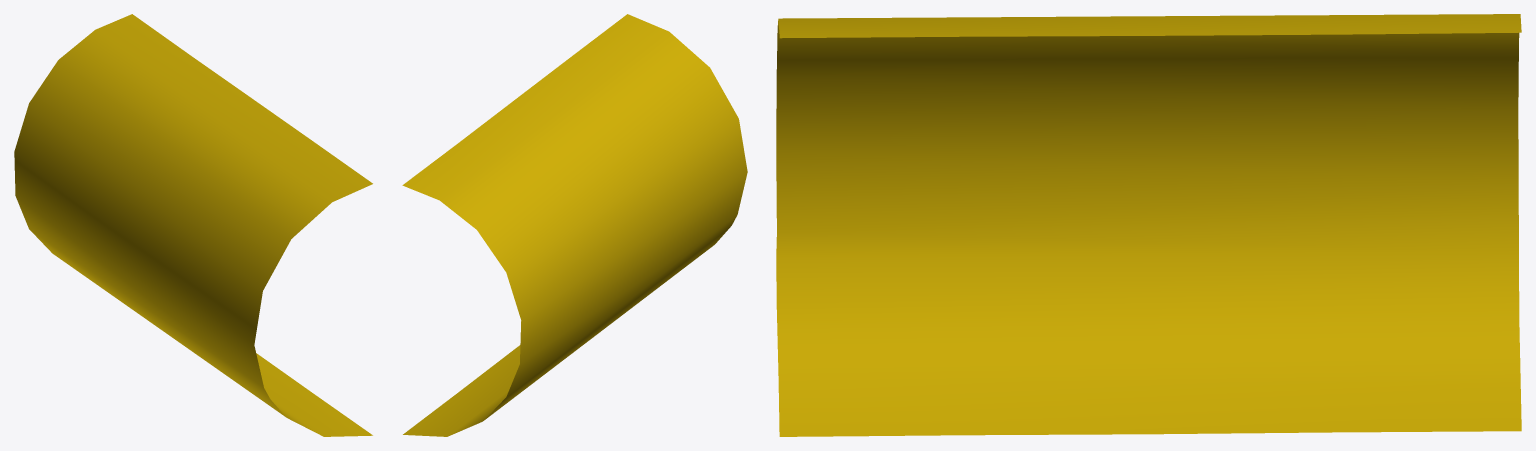
File: original-17.obj
3 views of the same model, side by side, from view 1: azimuth 30°, elevation 25°; view 2: azimuth 150°, elevation 25°; view 3: azimuth 270°, elevation 25° (orthographic). The views are drawn at different scales.
Parts seen in each view (by area): view 1: Group11/mesh15/mesh15-geometry#mesh15-geometry; view 2: Group11/mesh15/mesh15-geometry#mesh15-geometry; view 3: Group11/mesh15/mesh15-geometry#mesh15-geometry.
Part boxes in pixels (left/top/right/bottom): Group11/mesh15/mesh15-geometry#mesh15-geometry: left=14, top=14, right=372, bottom=436; Group11/mesh15/mesh15-geometry#mesh15-geometry: left=402, top=14, right=747, bottom=436; Group11/mesh15/mesh15-geometry#mesh15-geometry: left=776, top=14, right=1521, bottom=436.
Size of the model in its own units: 0.0473 by 0.0905 by 0.1533.
